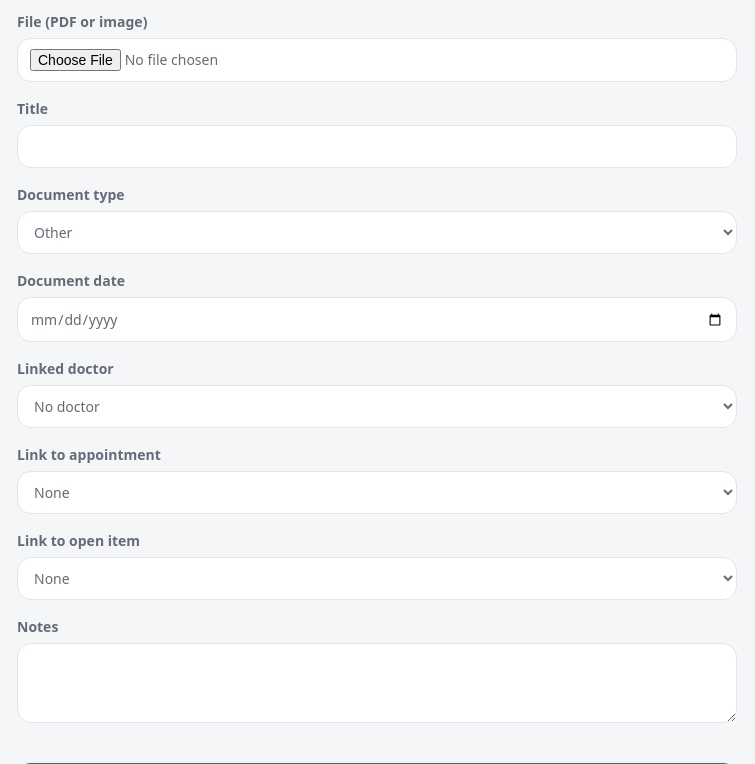
Test case: DocumentFormScreen › switches document type to match the task's kind when a task is picked from the dropdown
The width and height of the screenshot is (755, 764).
Expected: the dropdown labelled "Document type" shows "Other", [17,211,737,254]
Select "Get Form 17" in the dropdown labelled "Link to open item" at (377, 578), box [17,557,737,600]
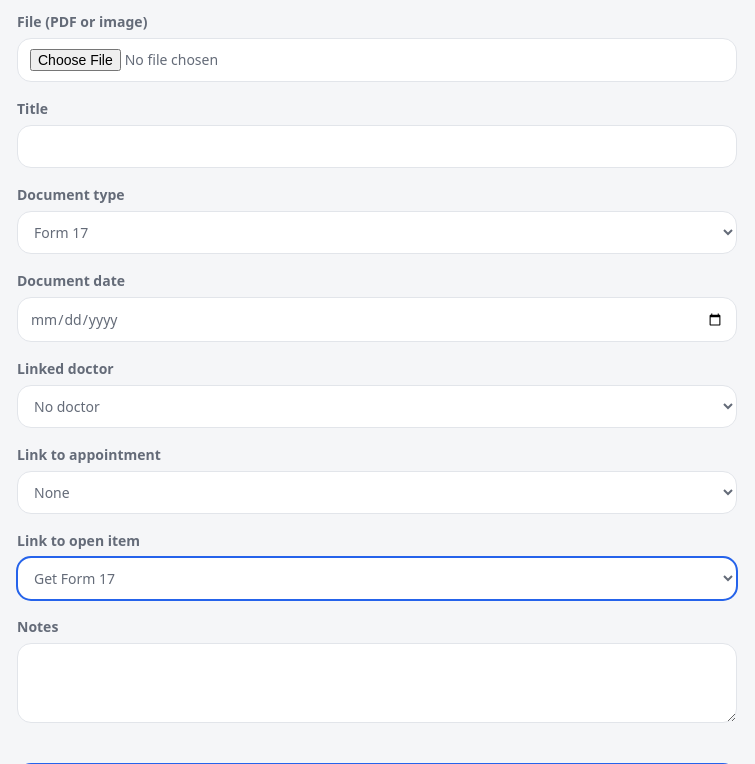
Now the dropdown labelled "Document type" shows "Form 17", box [17,211,737,254]
Note: Switching task in dropdown switches document type to test result
Select "Blood test" in the dropdown labelled "Link to open item" at (377, 578), box [17,557,737,600]
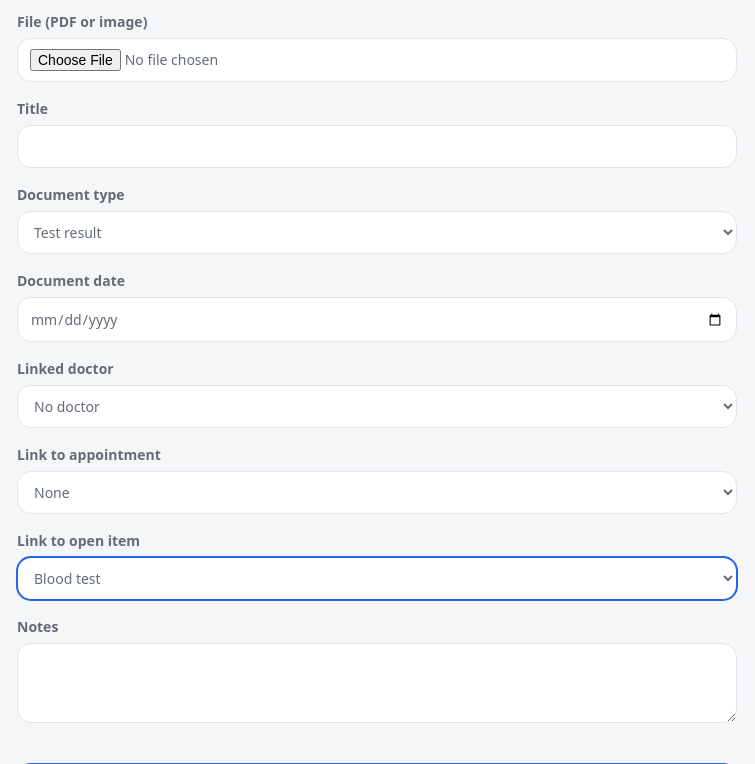
Now the dropdown labelled "Document type" shows "Test result", box [17,211,737,254]
